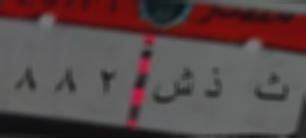2: (93, 64, 123, 98)
8: (53, 61, 81, 99), (15, 64, 38, 96)
sheen: (150, 64, 196, 110)
thaa: (251, 65, 293, 107)
zaal: (202, 65, 226, 104)
